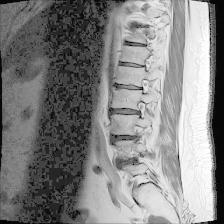disc: (114, 57, 151, 72), (109, 79, 146, 94), (118, 35, 152, 51)
hdisc: (113, 152, 144, 171), (108, 103, 142, 120), (109, 130, 142, 146)
